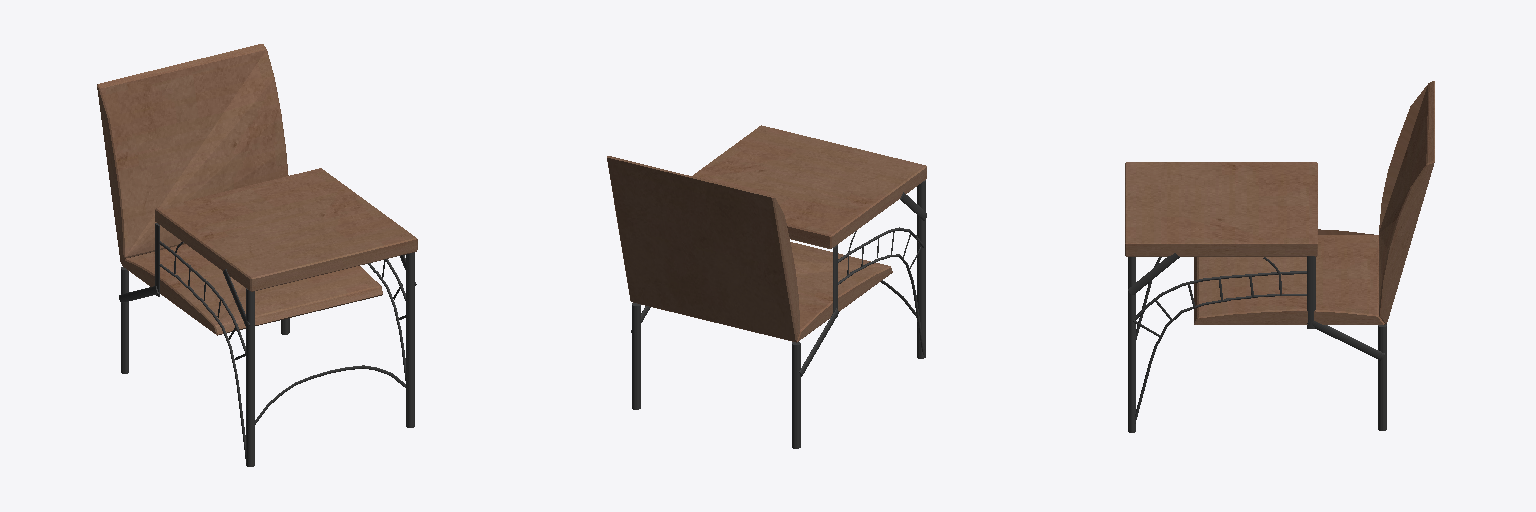
The picture shows the model from 3 angles: view 1: azimuth 30°, elevation 25°; view 2: azimuth 150°, elevation 25°; view 3: azimuth 270°, elevation 25°; orthographic projection.
Visible parts, largest first — view 1: pCube6, pasted__pasted__pCylinder1; view 2: pCube6, pasted__pasted__pCylinder1; view 3: pCube6, pasted__pasted__pCylinder1.
Part boxes in pixels (left/top/right/bottom): pCube6: left=97, top=44, right=417, bottom=335; pasted__pasted__pCylinder1: left=119, top=223, right=416, bottom=466; pCube6: left=607, top=125, right=926, bottom=342; pasted__pasted__pCylinder1: left=631, top=180, right=926, bottom=448; pCube6: left=1125, top=81, right=1434, bottom=324; pasted__pasted__pCylinder1: left=1128, top=253, right=1386, bottom=432.
Size of the model in its own units: 1.02 by 1.55 by 1.61.
2 materials, 2 textured.